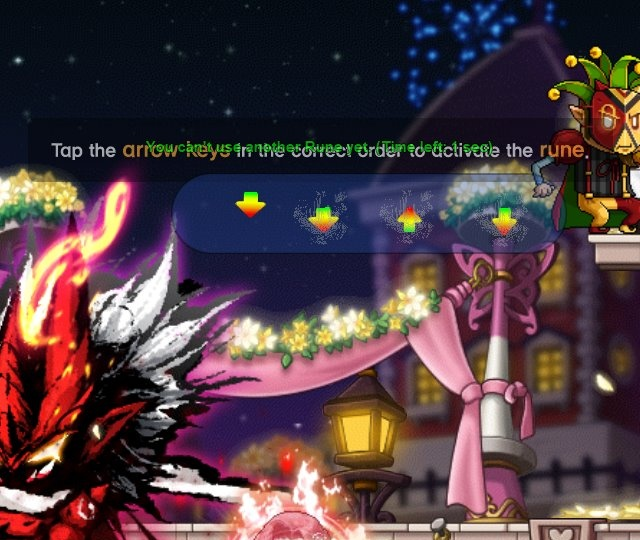down: (230, 187, 272, 225), (487, 200, 524, 239), (305, 201, 345, 236)
up: (390, 200, 431, 241)
